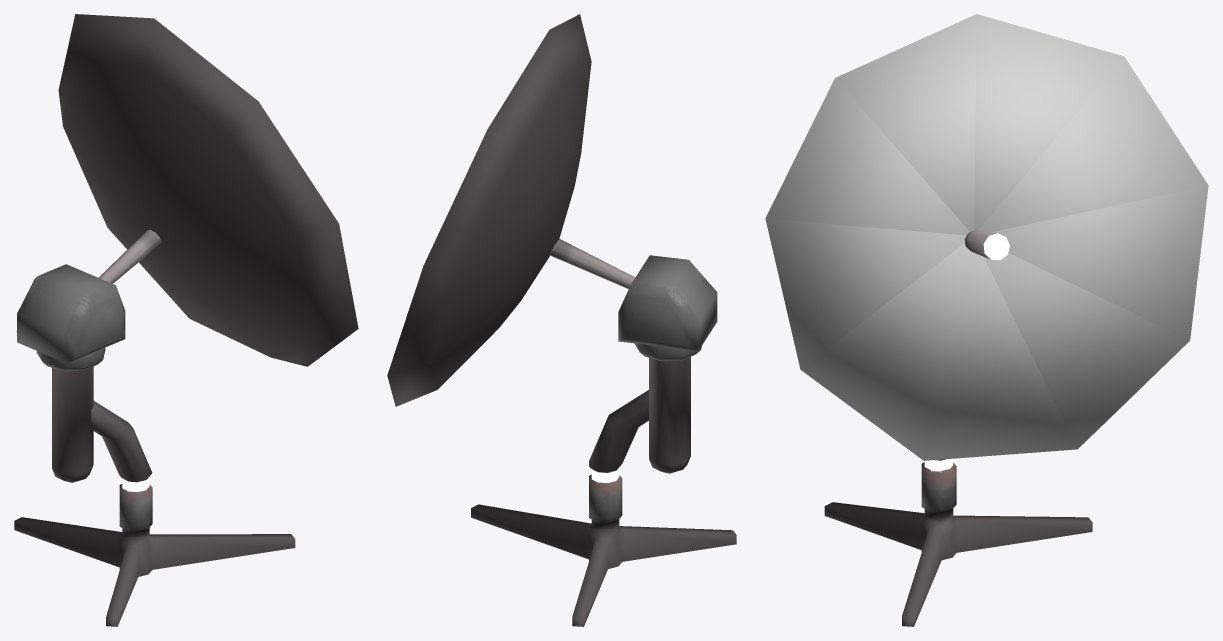
The model's file is Antenna2.fbx.
3 renders of one model, left to right at view 1: azimuth 30°, elevation 25°; view 2: azimuth 150°, elevation 25°; view 3: azimuth 270°, elevation 25°, orthographic. The views are drawn at different scales.
Parts seen in each view (by area): view 1: Antenna2.001, Antenna2; view 2: Antenna2.001, Antenna2; view 3: Antenna2.001, Antenna2.
Boxes of the visible parts, bbox=[...] form: Antenna2.001: bbox=[16, 14, 358, 371]; Antenna2: bbox=[14, 366, 295, 626]; Antenna2.001: bbox=[387, 14, 717, 406]; Antenna2: bbox=[471, 357, 736, 626]; Antenna2.001: bbox=[765, 14, 1208, 460]; Antenna2: bbox=[824, 458, 1092, 626].
Size of the model in its own units: 860 by 1609 by 1158.
